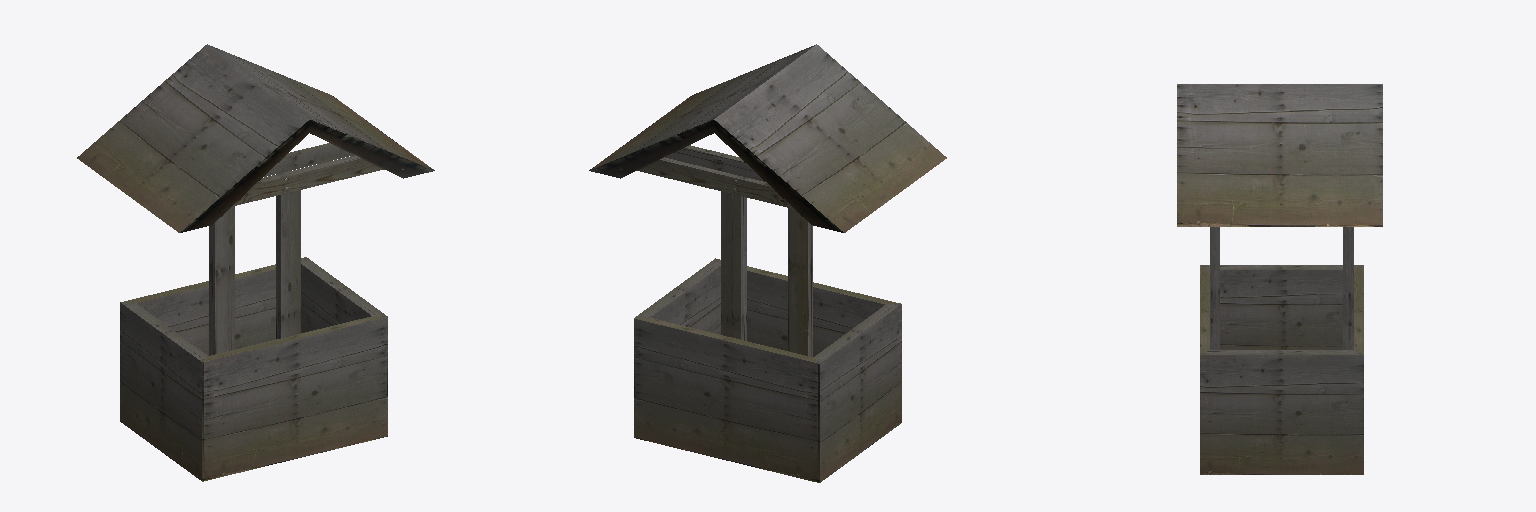
The picture shows the model from 3 angles: view 1: azimuth 30°, elevation 25°; view 2: azimuth 150°, elevation 25°; view 3: azimuth 270°, elevation 25°; orthographic projection.
Visible parts, largest first — view 1: well; view 2: well; view 3: well.
Part boxes in pixels (bbox=[...]): well: bbox=[77, 44, 434, 481]; well: bbox=[589, 44, 946, 482]; well: bbox=[1177, 84, 1382, 474].
Size of the model in its own units: 4.21 by 5.46 by 2.93.
1 materials, 1 textured.